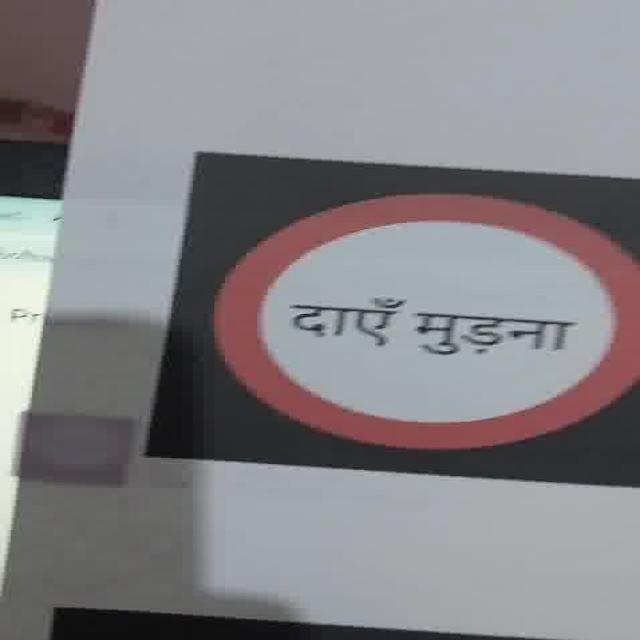hindiright: (146, 150, 639, 486), (286, 294, 578, 357)
